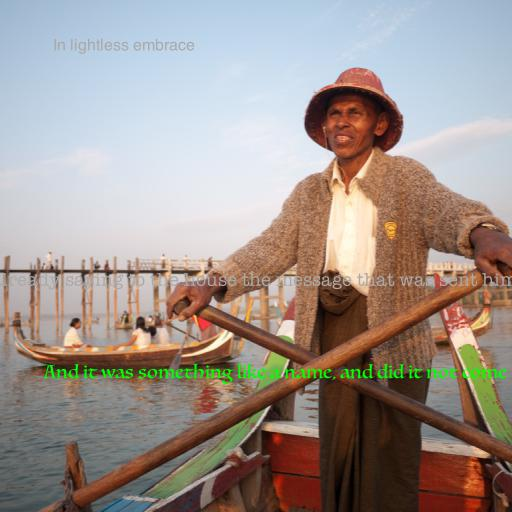American Typewriter: (0, 273, 512, 290)
Apple Chancery: (53, 38, 195, 54)
Luminari: (43, 363, 507, 385)
